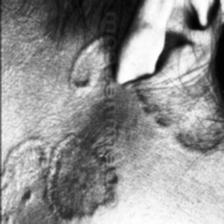Unclassified: (37, 41, 100, 224), (131, 86, 222, 172), (0, 127, 36, 224)
